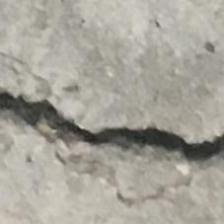Crack: (13, 84, 224, 169)
